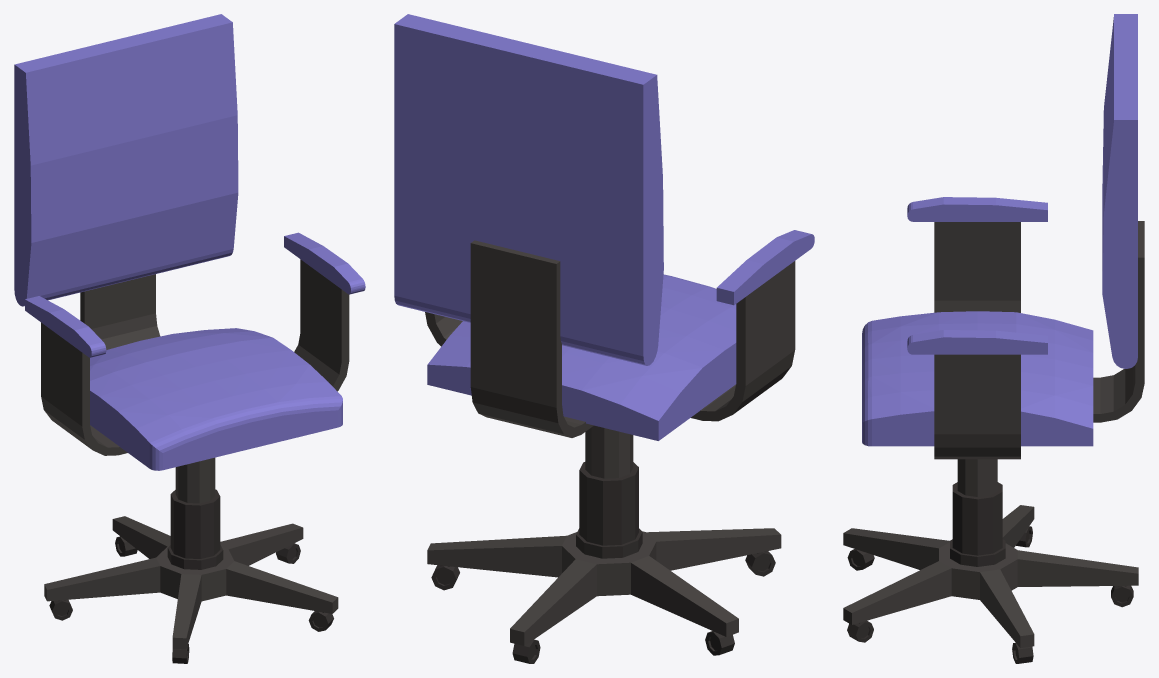
File: Office Chair_02.fbx
The picture shows the model from 3 angles, left to right: view 1: azimuth 30°, elevation 25°; view 2: azimuth 150°, elevation 25°; view 3: azimuth 270°, elevation 25°; orthographic projection. The views are drawn at different scales.
Visible parts, largest first — view 1: Office Chair_02; view 2: Office Chair_02; view 3: Office Chair_02.
Boxes of the visible parts, left/top/right/bottom form: Office Chair_02: left=14, top=14, right=365, bottom=663; Office Chair_02: left=394, top=14, right=814, bottom=663; Office Chair_02: left=843, top=14, right=1144, bottom=663.
Size of the model in its own units: 60.2 by 107 by 54.67.
